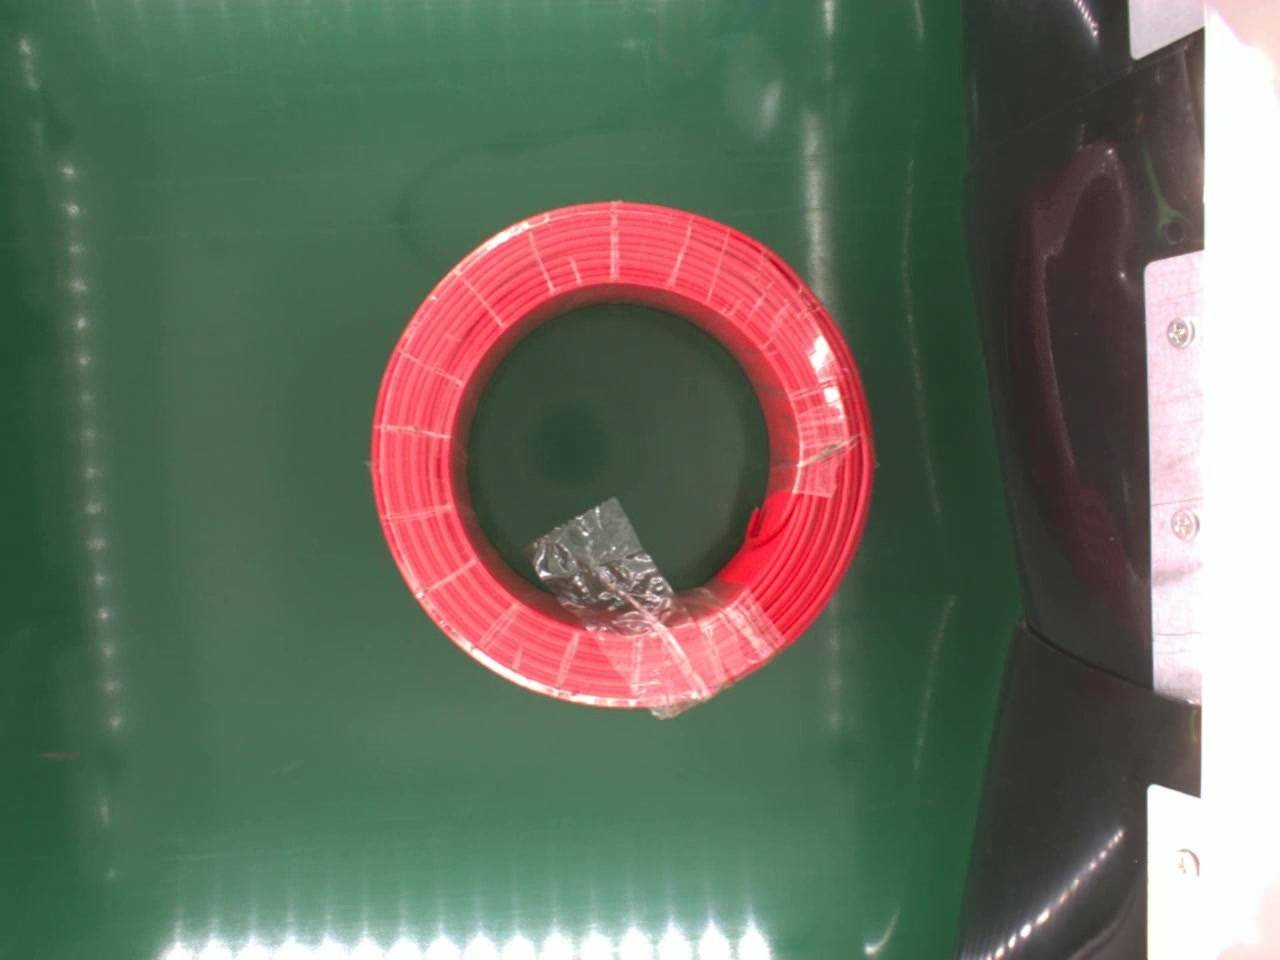red: (370, 198, 880, 710)
